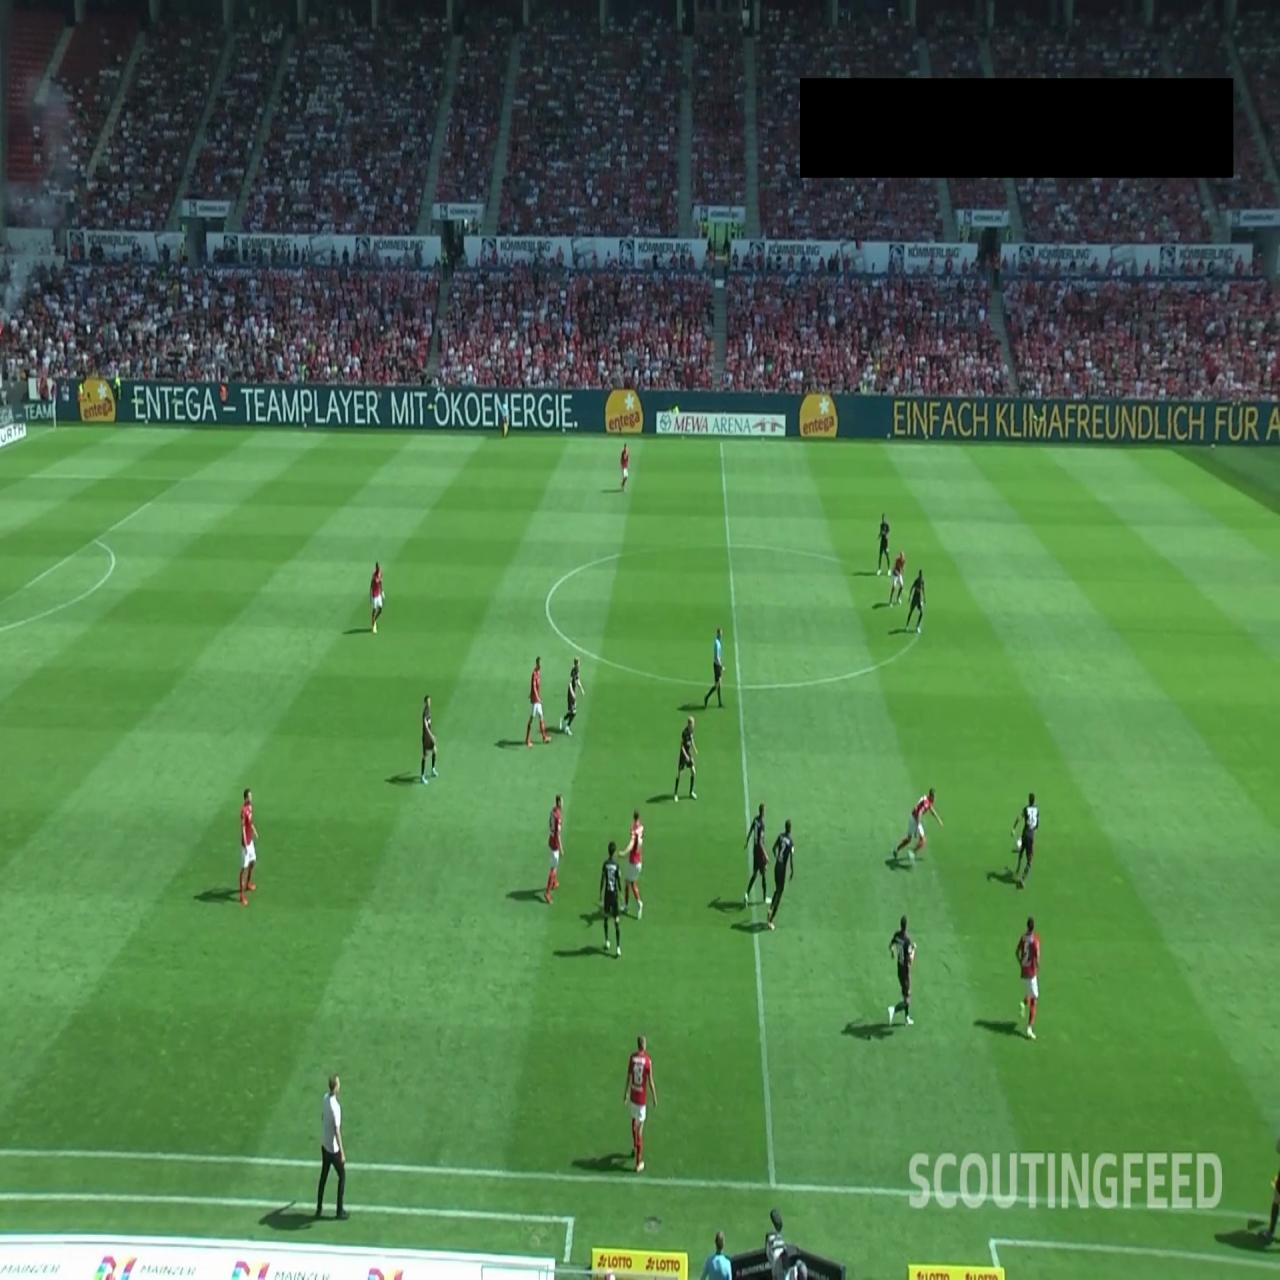ball: (1015, 835, 1024, 853)
player: (623, 1034, 657, 1174), (893, 787, 944, 867), (1015, 915, 1041, 1039), (888, 914, 916, 1026), (766, 818, 794, 929), (599, 840, 623, 958), (1011, 791, 1039, 892), (620, 808, 645, 921), (236, 787, 259, 908), (743, 802, 769, 906), (526, 655, 552, 747), (674, 715, 699, 802), (545, 793, 564, 904), (561, 658, 586, 736), (421, 694, 438, 784), (905, 569, 925, 633), (370, 560, 385, 633), (888, 551, 906, 607), (876, 512, 891, 576), (620, 442, 629, 492)
referee: (703, 627, 725, 709), (501, 397, 510, 439)
